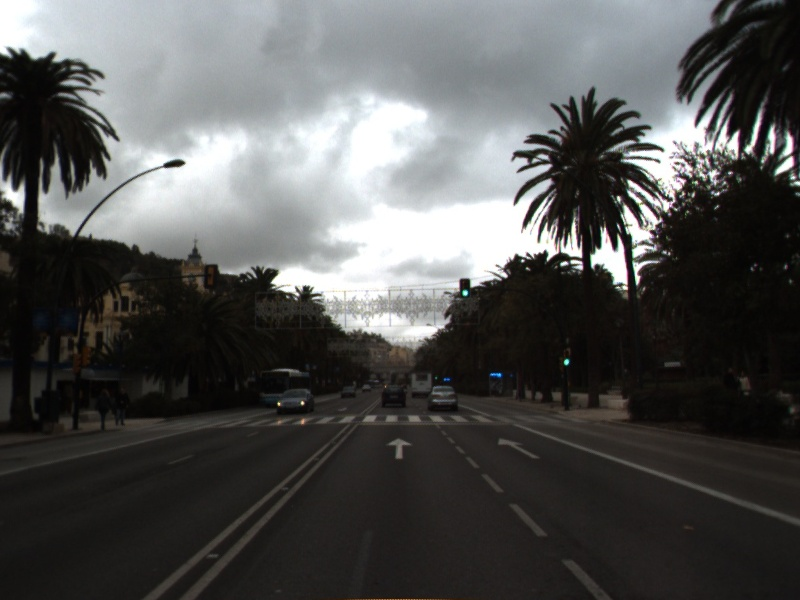STRAIGHT: (495, 435, 542, 461), (383, 435, 415, 461)
